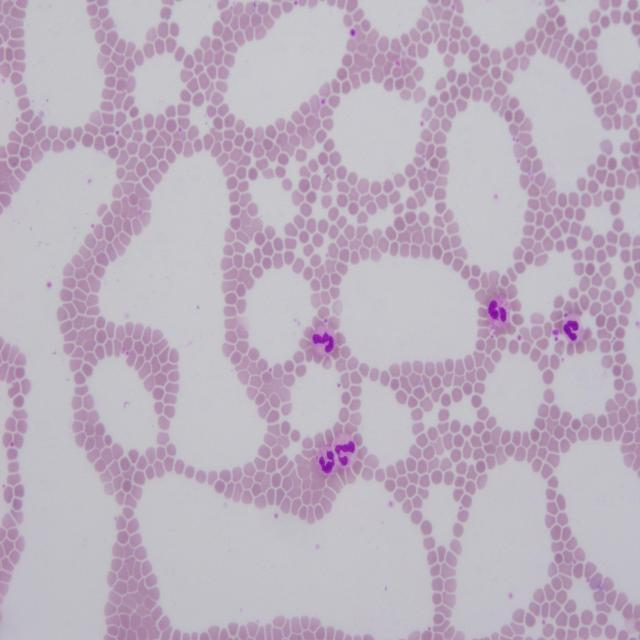cell: (311, 324, 336, 357), (332, 435, 356, 469), (488, 295, 510, 328), (315, 445, 338, 475), (562, 314, 585, 341)
